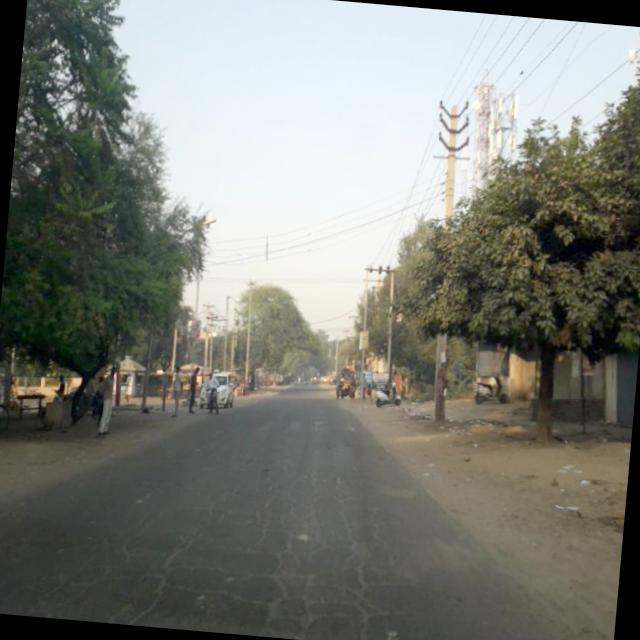crack: (51, 453, 457, 640)
